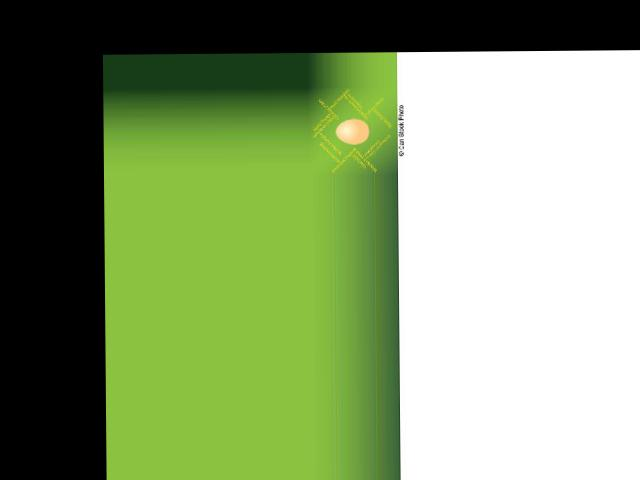egg: (335, 118, 369, 144)
